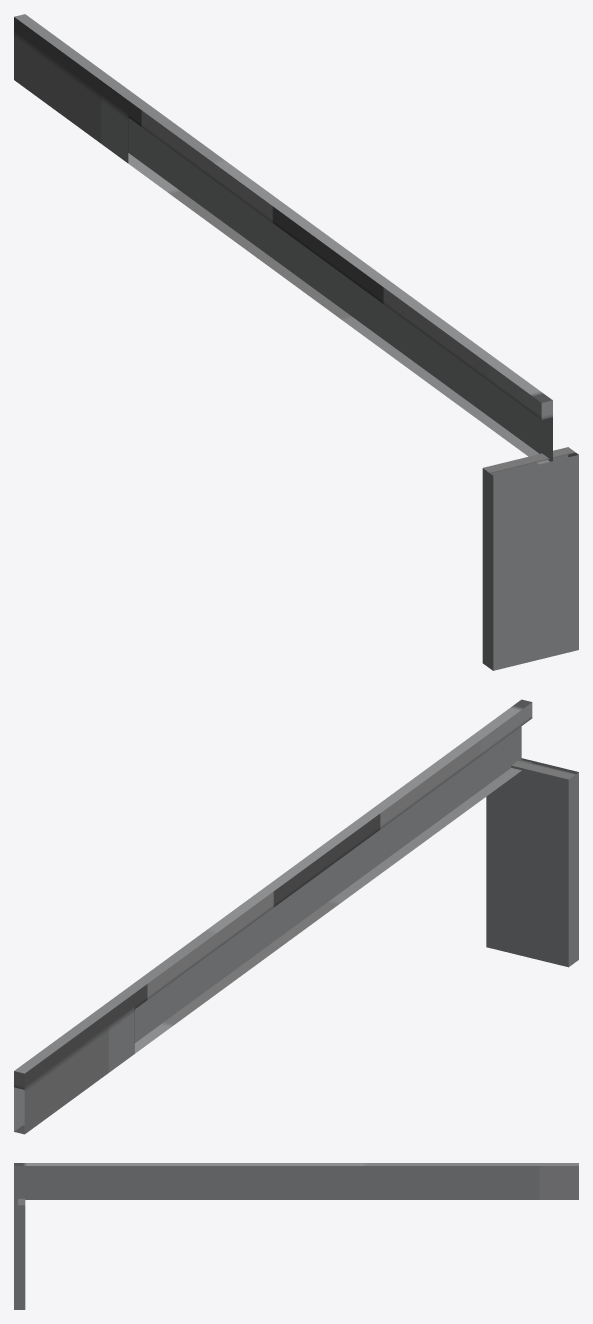
3 views of the same model, one above another, from view 1: azimuth 30°, elevation 25°; view 2: azimuth 150°, elevation 25°; view 3: azimuth 270°, elevation 25° (orthographic). The views are drawn at different scales.
Bounding box in the file's own units: 0.23 × 0.656 × 2.45.
